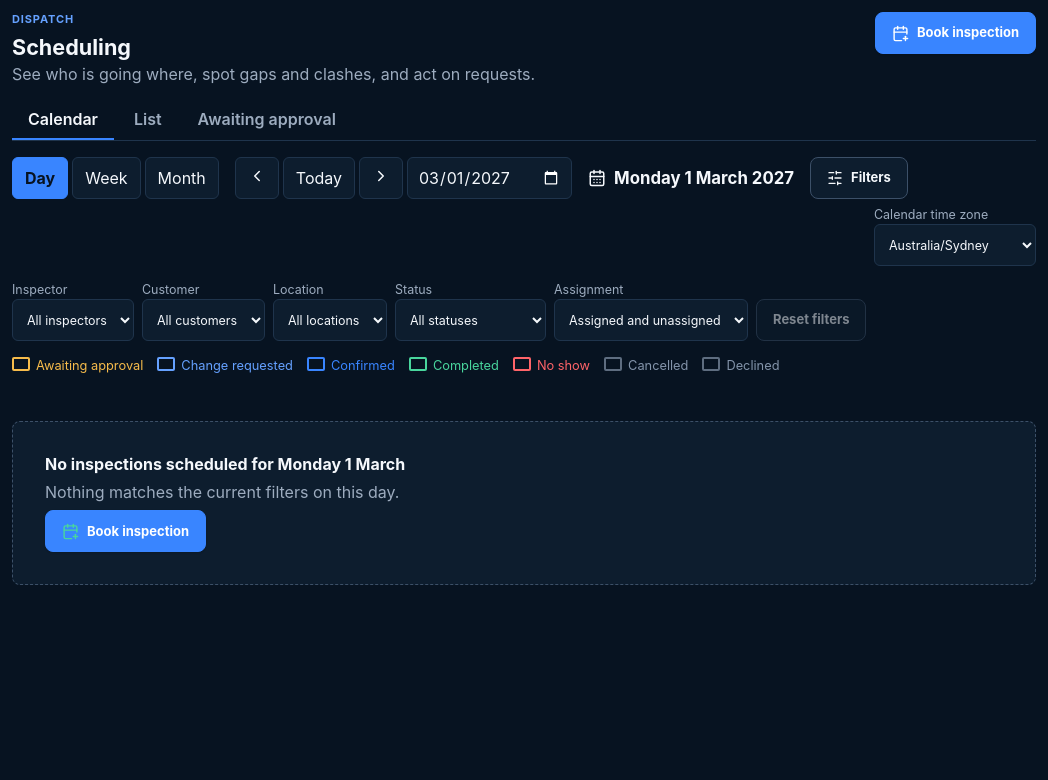
it: Week and Month views › says so when a week has nothing in it
expect the text "No inspections scheduled for Monday 1 March" is shown: met, box [45,454,405,474]
Click the button "Week".
click(106, 178)  # box [72,157,141,199]
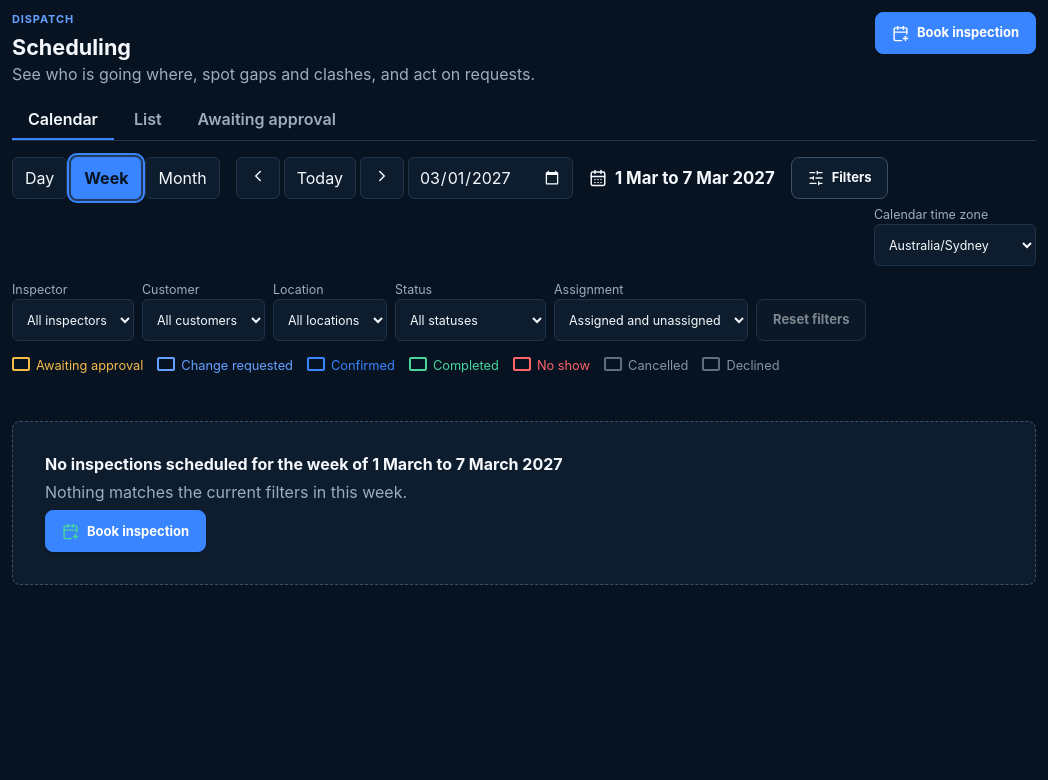
expect the text "No inspections scheduled for the week of" is shown: met, box [45,454,372,474]
